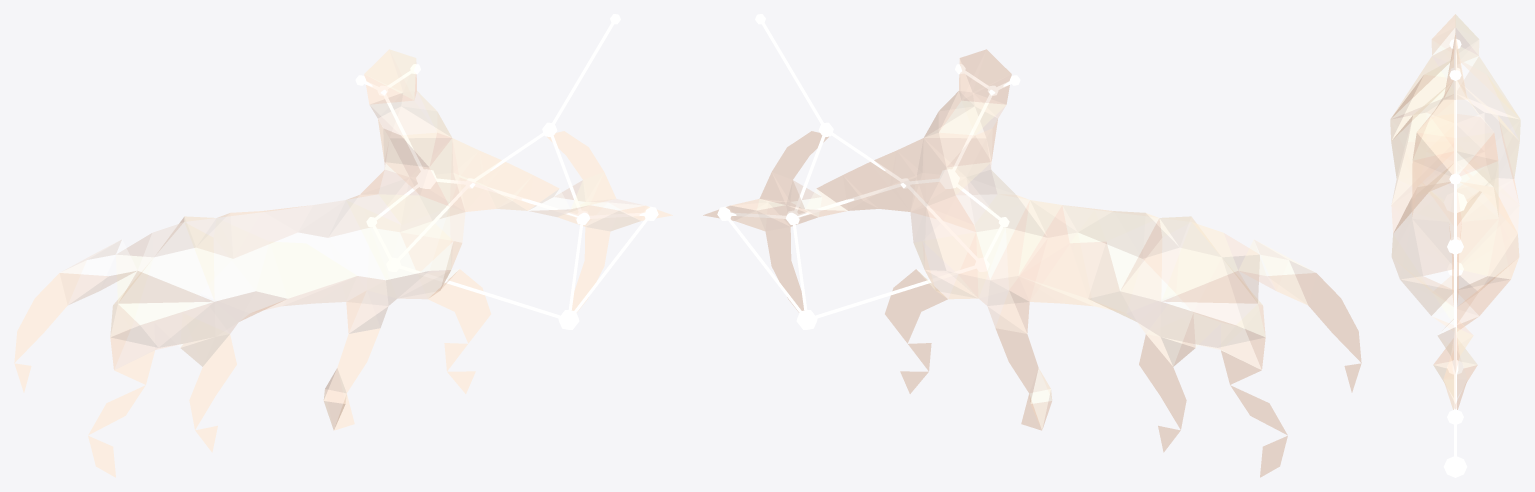
File: 09_Sagittarius.glb
3 views of the same model, side by side, from view 1: azimuth 30°, elevation 25°; view 2: azimuth 150°, elevation 25°; view 3: azimuth 270°, elevation 25° (orthographic). The views are drawn at different scales.
Visible parts, largest first — view 1: Sagittarius; view 2: Sagittarius; view 3: Sagittarius.
Part boxes in pixels (x1,y1,x2,y2): Sagittarius: [14, 14, 672, 477]; Sagittarius: [703, 14, 1361, 477]; Sagittarius: [1390, 14, 1520, 477].
Bounding box in the file's own units: 1.73 × 0.922 × 0.2751.
